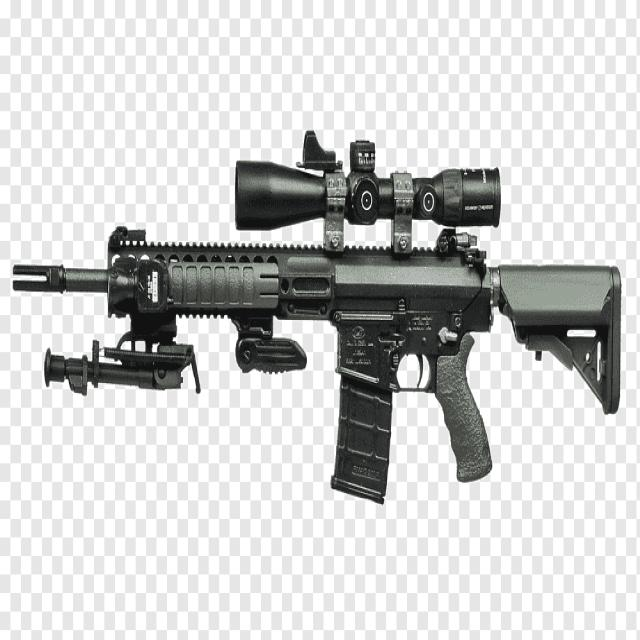Rifle: (12, 133, 623, 507)
